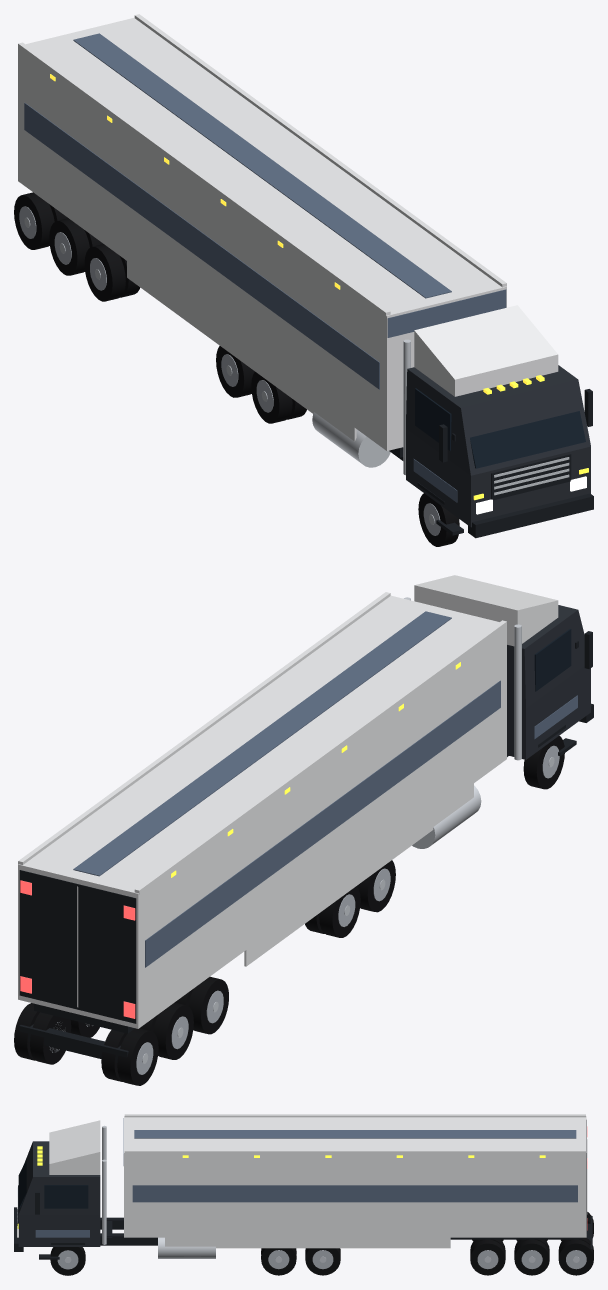
The model's file is truck-stopped.glb.
The picture shows the model from 3 angles, top to bottom: view 1: azimuth 30°, elevation 25°; view 2: azimuth 150°, elevation 25°; view 3: azimuth 270°, elevation 25°; orthographic projection. The views are drawn at different scales.
Visible parts, largest first — view 1: tractocamion; view 2: tractocamion; view 3: tractocamion.
Boxes of the visible parts, left/top/right/bottom form: tractocamion: left=14, top=14, right=593, bottom=546; tractocamion: left=14, top=575, right=593, bottom=1085; tractocamion: left=14, top=1114, right=593, bottom=1275.
Size of the model in its own units: 3.2 by 4.06 by 17.06.
